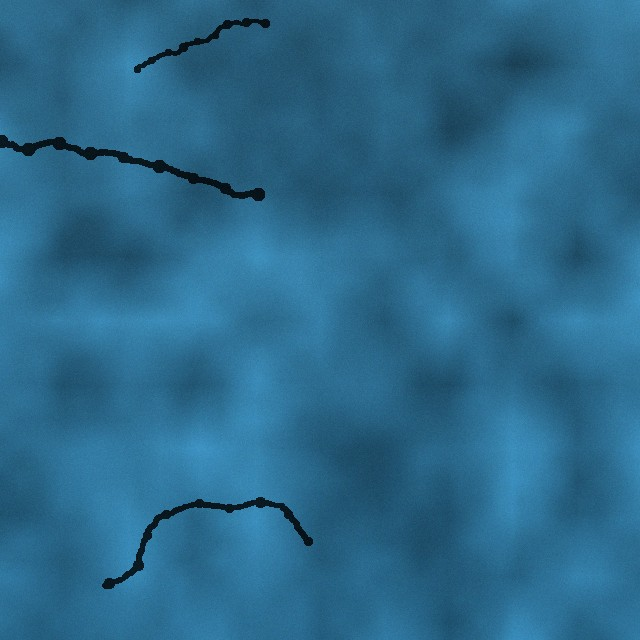crack: (99, 496, 313, 591), (0, 133, 264, 202), (133, 16, 270, 73)
